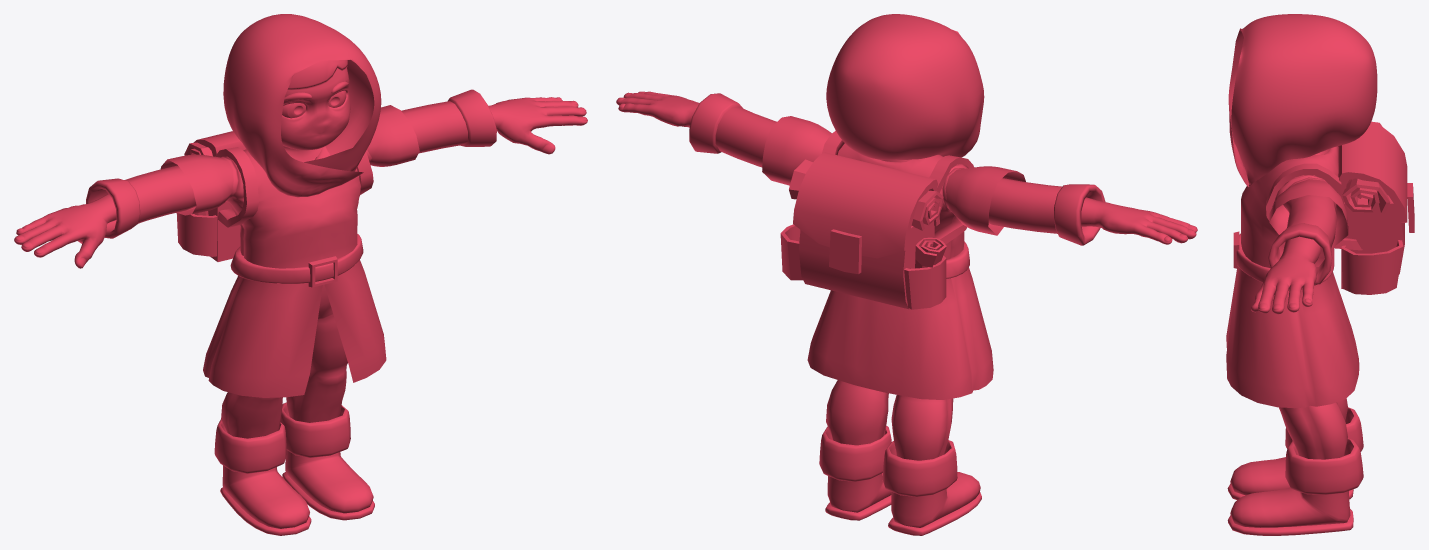
The model's file is major_project_female.fbx.
3 views of the same model, side by side, from view 1: azimuth 30°, elevation 25°; view 2: azimuth 150°, elevation 25°; view 3: azimuth 270°, elevation 25° (orthographic). The views are drawn at different scales.
Visible parts, largest first — view 1: Cube.001; view 2: Cube.001; view 3: Cube.001.
Boxes of the visible parts, bbox=[...] form: Cube.001: bbox=[14, 14, 587, 535]; Cube.001: bbox=[616, 14, 1197, 535]; Cube.001: bbox=[1226, 14, 1414, 535].
Size of the model in its own units: 814 by 657 by 231.
